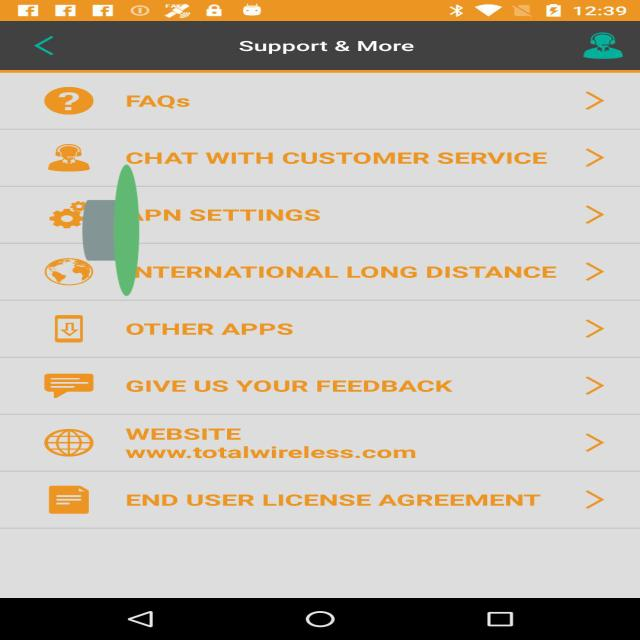social proof: (82, 84, 140, 377)
